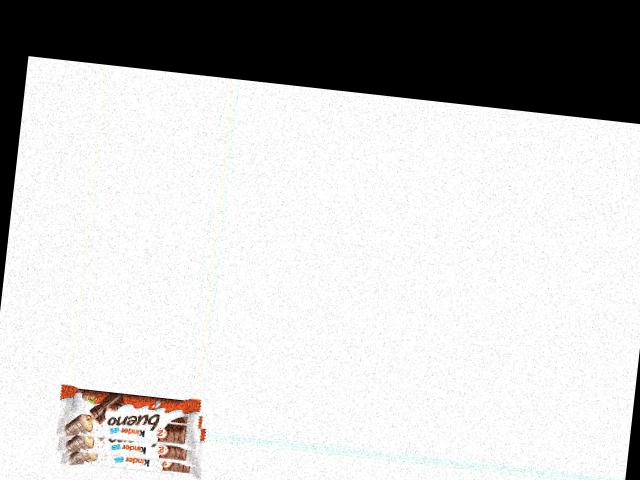chocolate: (56, 383, 208, 479)
